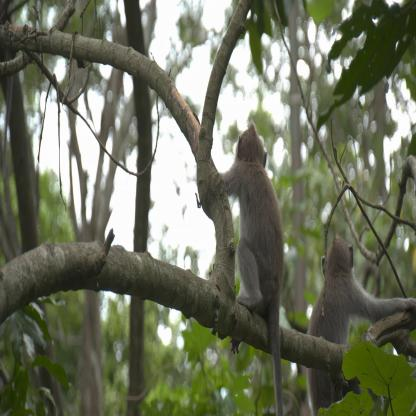monkey: (216, 122, 288, 322), (306, 232, 379, 405)
